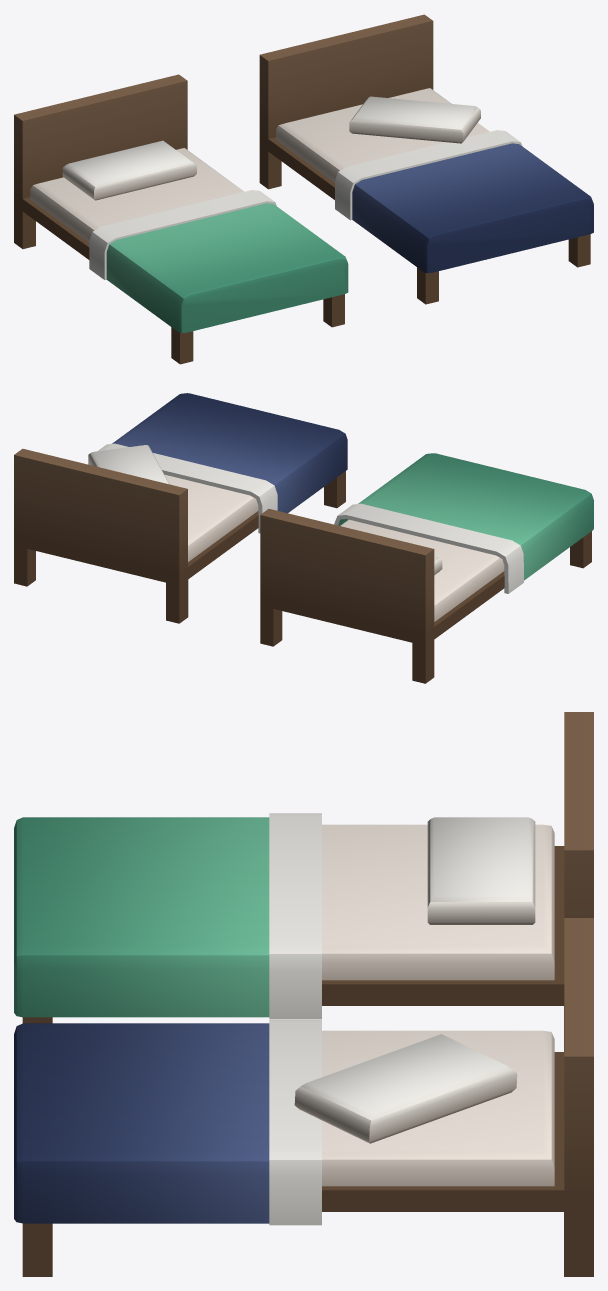
File: L1_beds_reupload 1.fbx
3 views of the same model, one above another, from view 1: azimuth 30°, elevation 25°; view 2: azimuth 150°, elevation 25°; view 3: azimuth 270°, elevation 25° (orthographic). The views are drawn at different scales.
Visible parts, largest first — view 1: Plane003, Plane004, Box010, Box007, Box009, Box011; view 2: Box007, Box010, Plane003, Plane004, Box011; view 3: Plane003, Plane004, Box010, Box007, Box011, Box009.
Boxes of the visible parts, <box> form: Plane003: <box>89,190,348,332</box>; Plane004: <box>335,130,593,273</box>; Box010: <box>259,14,590,304</box>; Box007: <box>14,74,344,364</box>; Box009: <box>62,140,196,200</box>; Box011: <box>349,96,480,143</box>; Box007: <box>260,509,591,683</box>; Box010: <box>14,448,345,623</box>; Plane003: <box>334,453,593,593</box>; Plane004: <box>88,393,347,533</box>; Box011: <box>88,445,169,484</box>; Plane003: <box>14,813,321,1018</box>; Plane004: <box>14,1019,321,1225</box>; Box010: <box>22,918,593,1276</box>; Box007: <box>22,712,593,1051</box>; Box011: <box>294,1034,517,1143</box>; Box009: <box>427,817,535,924</box>.
Bounding box in the file's own units: 86.05 × 25.14 × 59.94.
4 materials, 4 textured.
